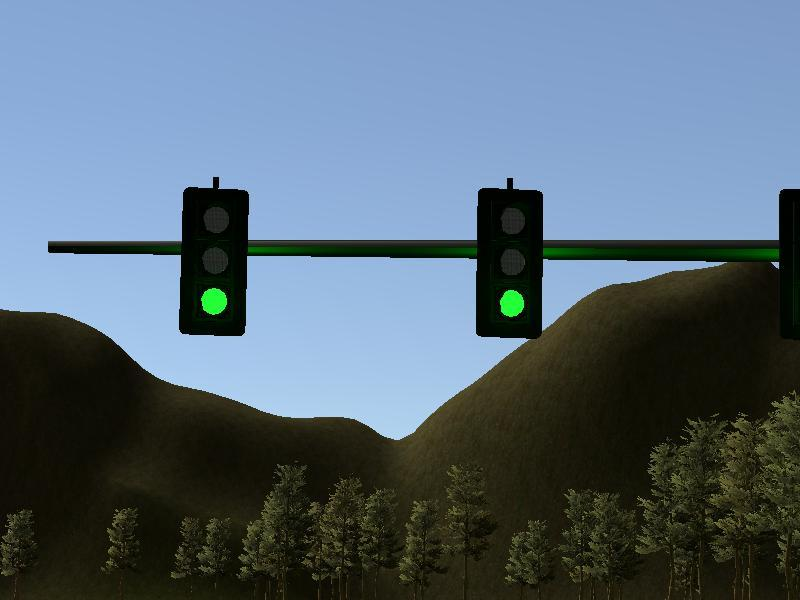Green: (480, 188, 542, 338), (183, 187, 245, 336)
